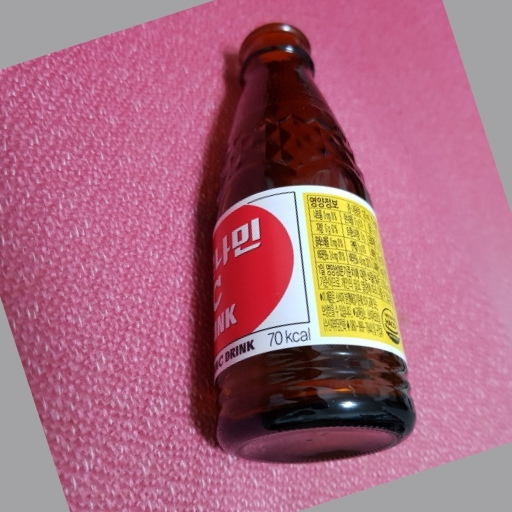Glass_3: (200, 24, 419, 462)
